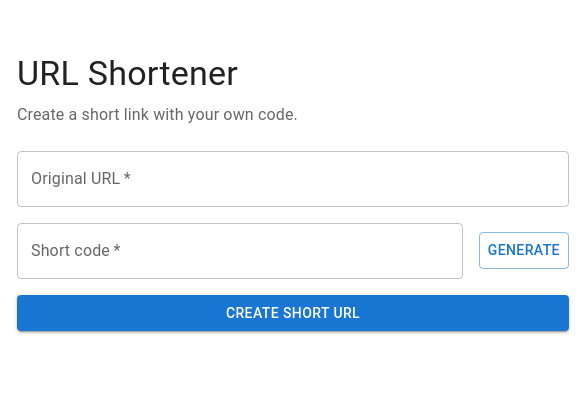
Test case: renders backend validation errors and preserves entered values
In the field labelled "Original URL *": (293, 179) [17, 151, 569, 207], type "not-a-url"
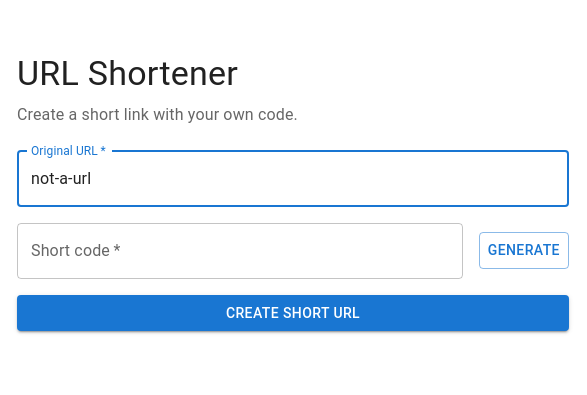
In the field labelled "Short code *": (240, 251) [17, 223, 463, 279], type "open"
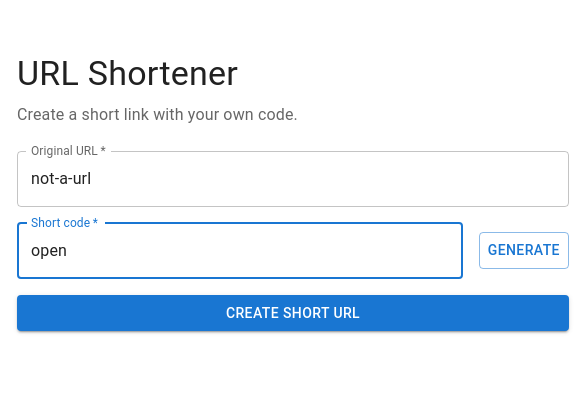
Click the button "Create short URL": (293, 313) [17, 295, 569, 331]
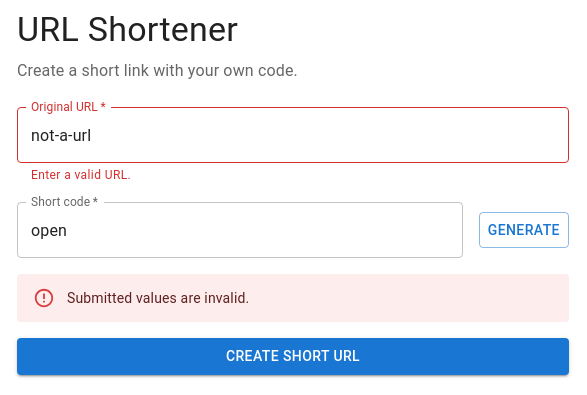
Result: the text "Enter a valid URL." is shown at [31, 168, 131, 182]
